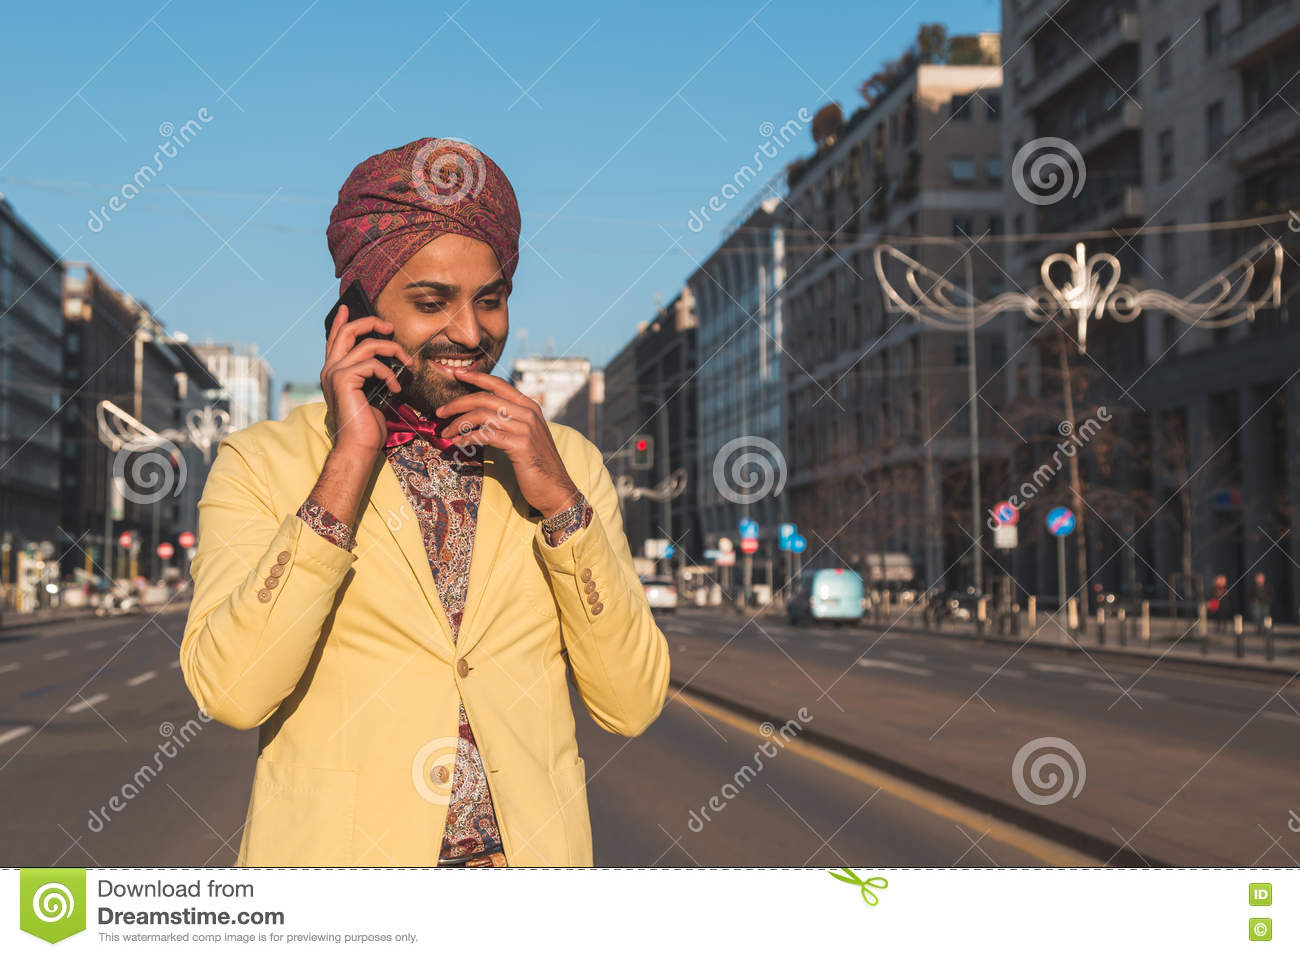phone: (328, 278, 406, 416)
talk: (322, 267, 507, 465)
